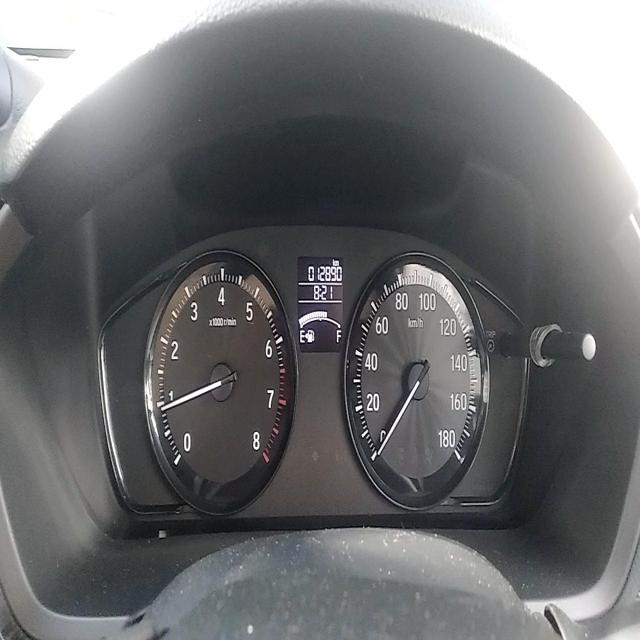odometer: (306, 264, 343, 282)
